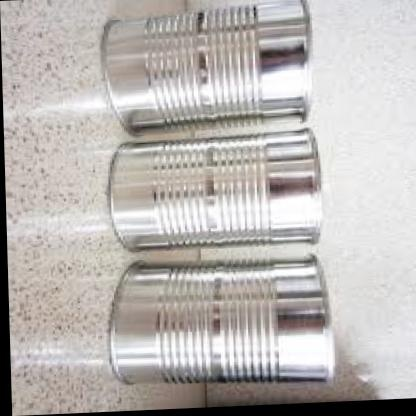trash: (110, 260, 333, 382), (103, 0, 307, 132), (110, 129, 319, 248)
